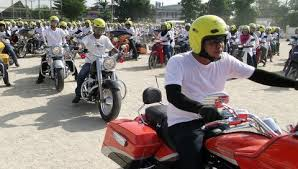helmet: (182, 12, 234, 60), (90, 13, 110, 36), (46, 12, 61, 29), (158, 18, 172, 29)
